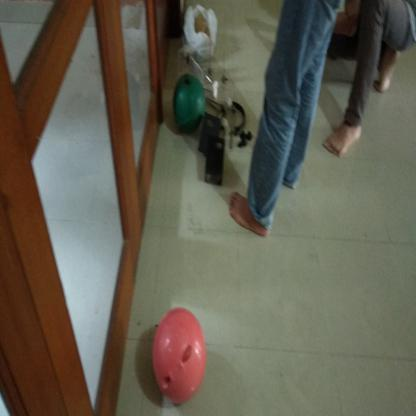green_buoy: (168, 70, 209, 138)
red_buoy: (147, 302, 208, 410)
